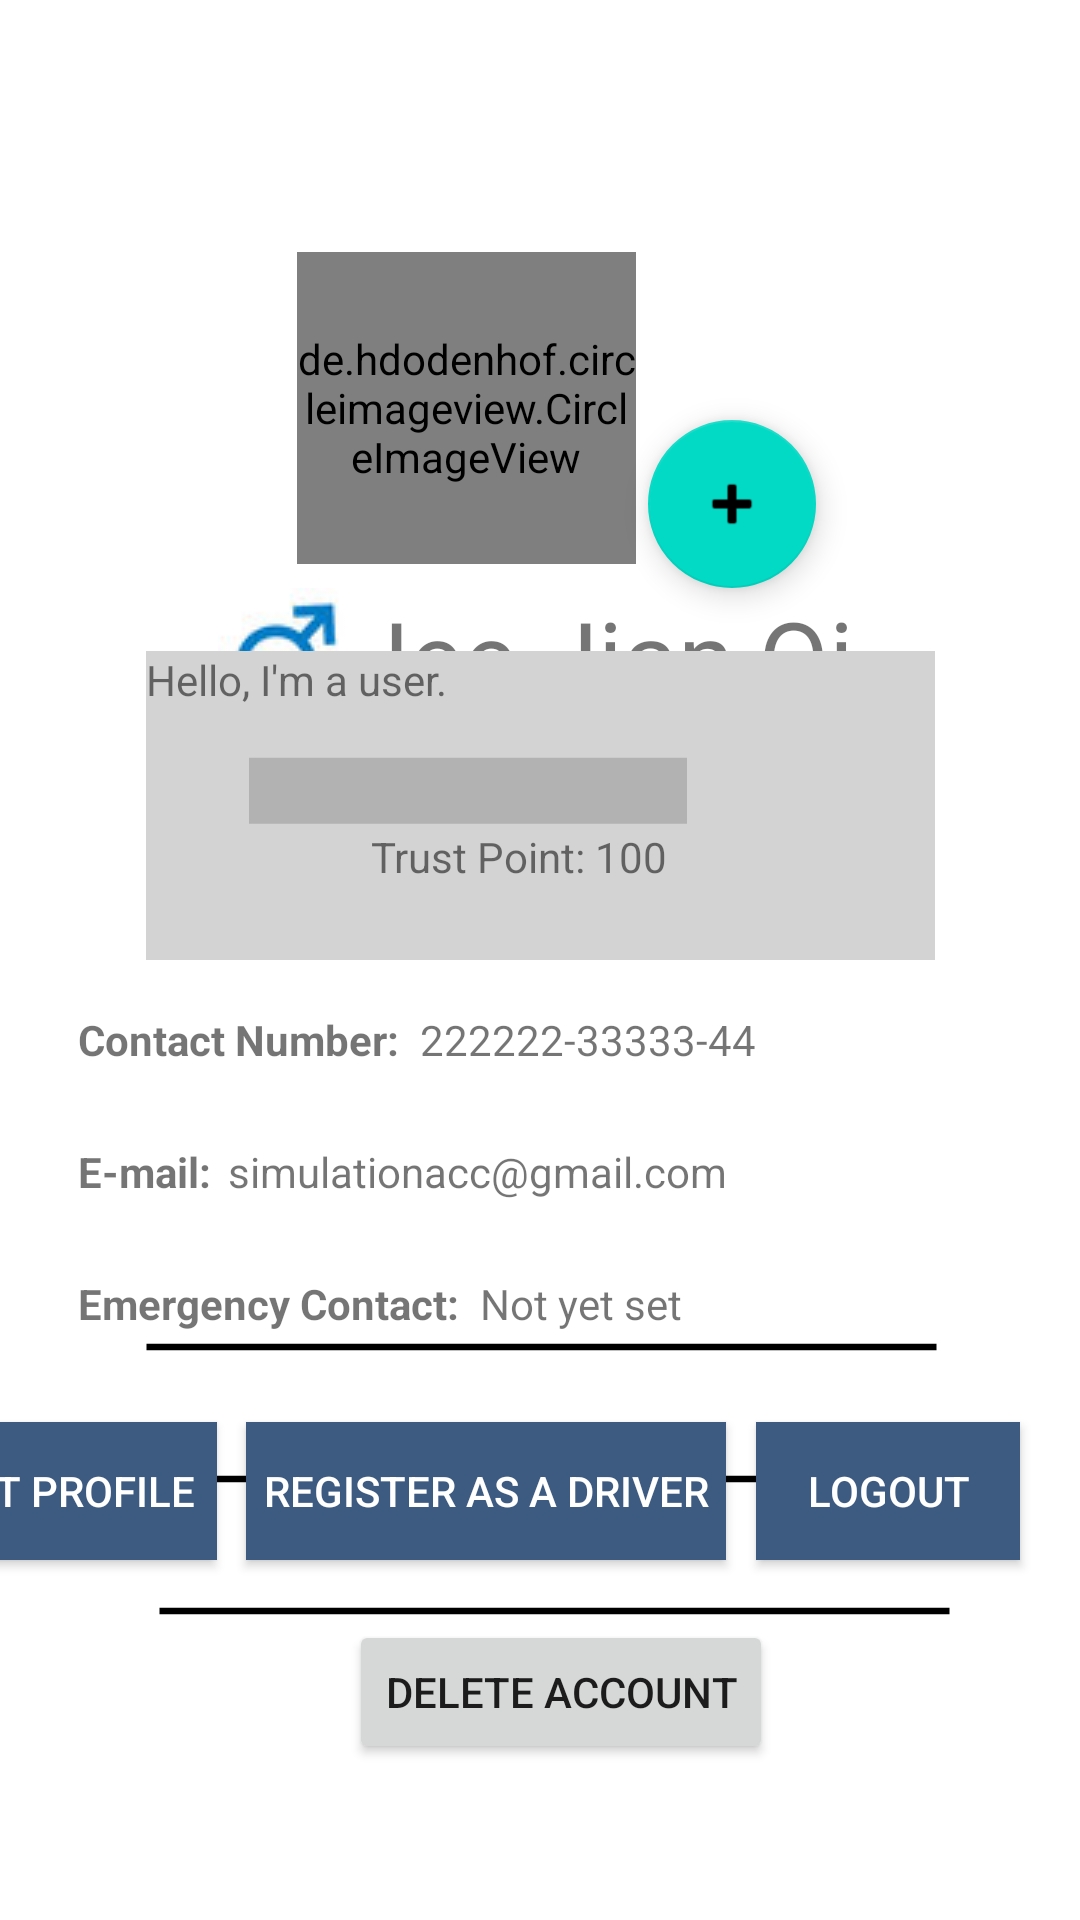

Point at icon controls on the screen. Image size 1080x1920, points as [x,y].
add: [732,504]
